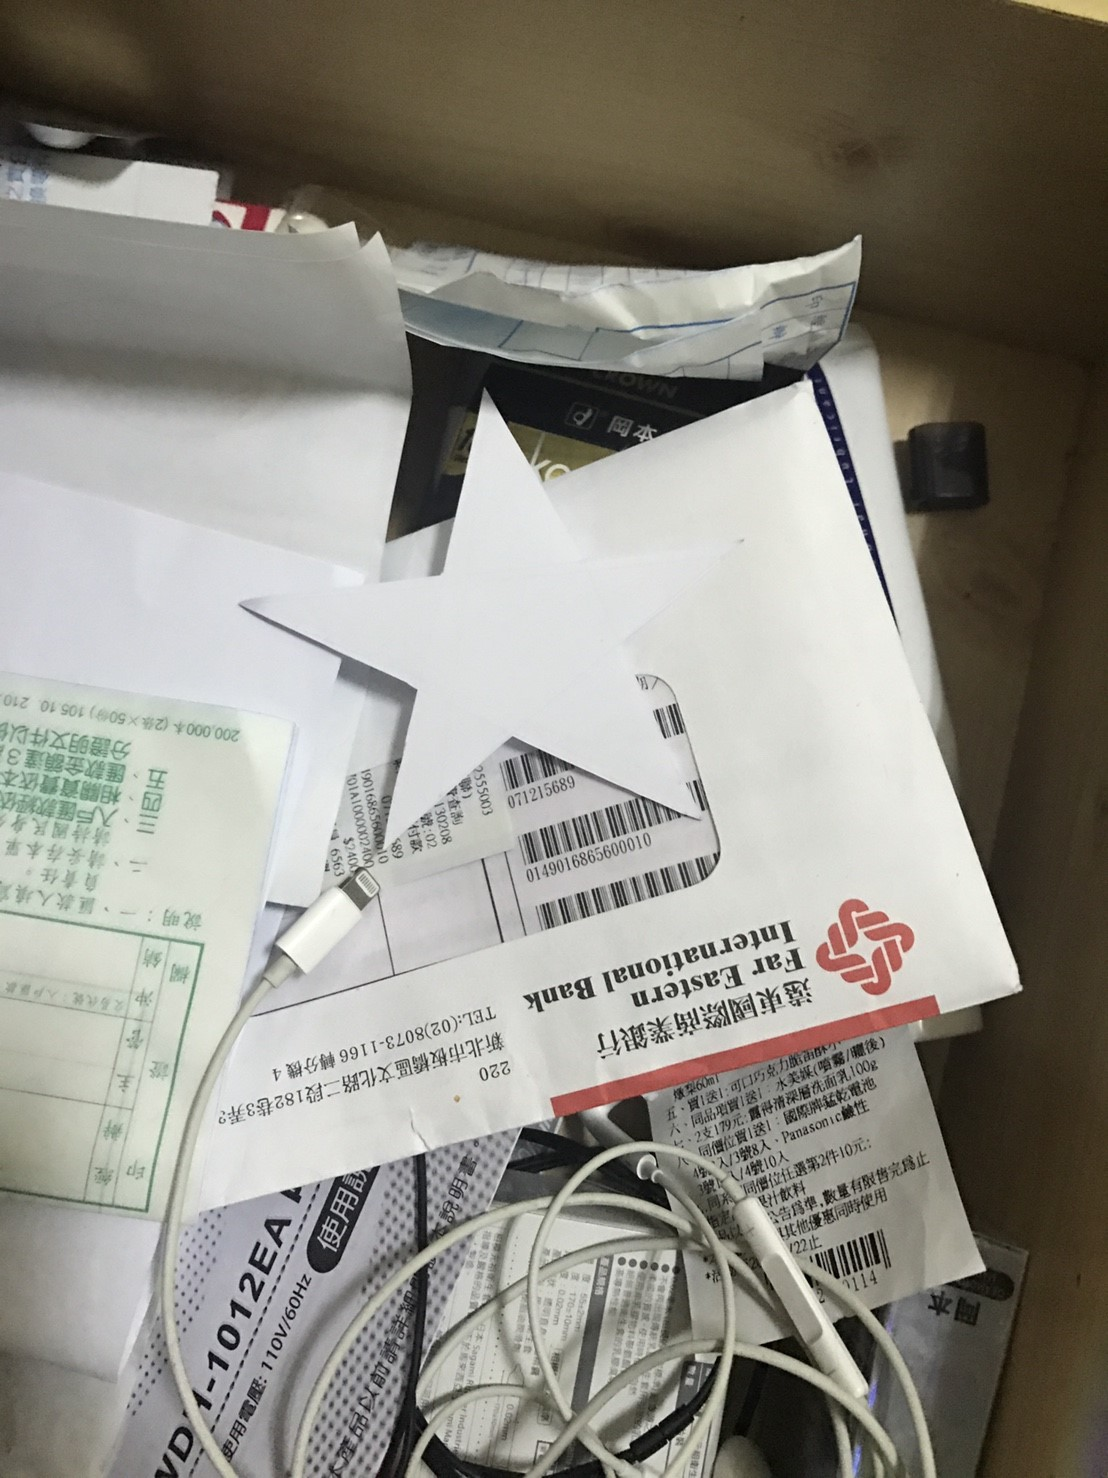star: (177, 356, 805, 905)
